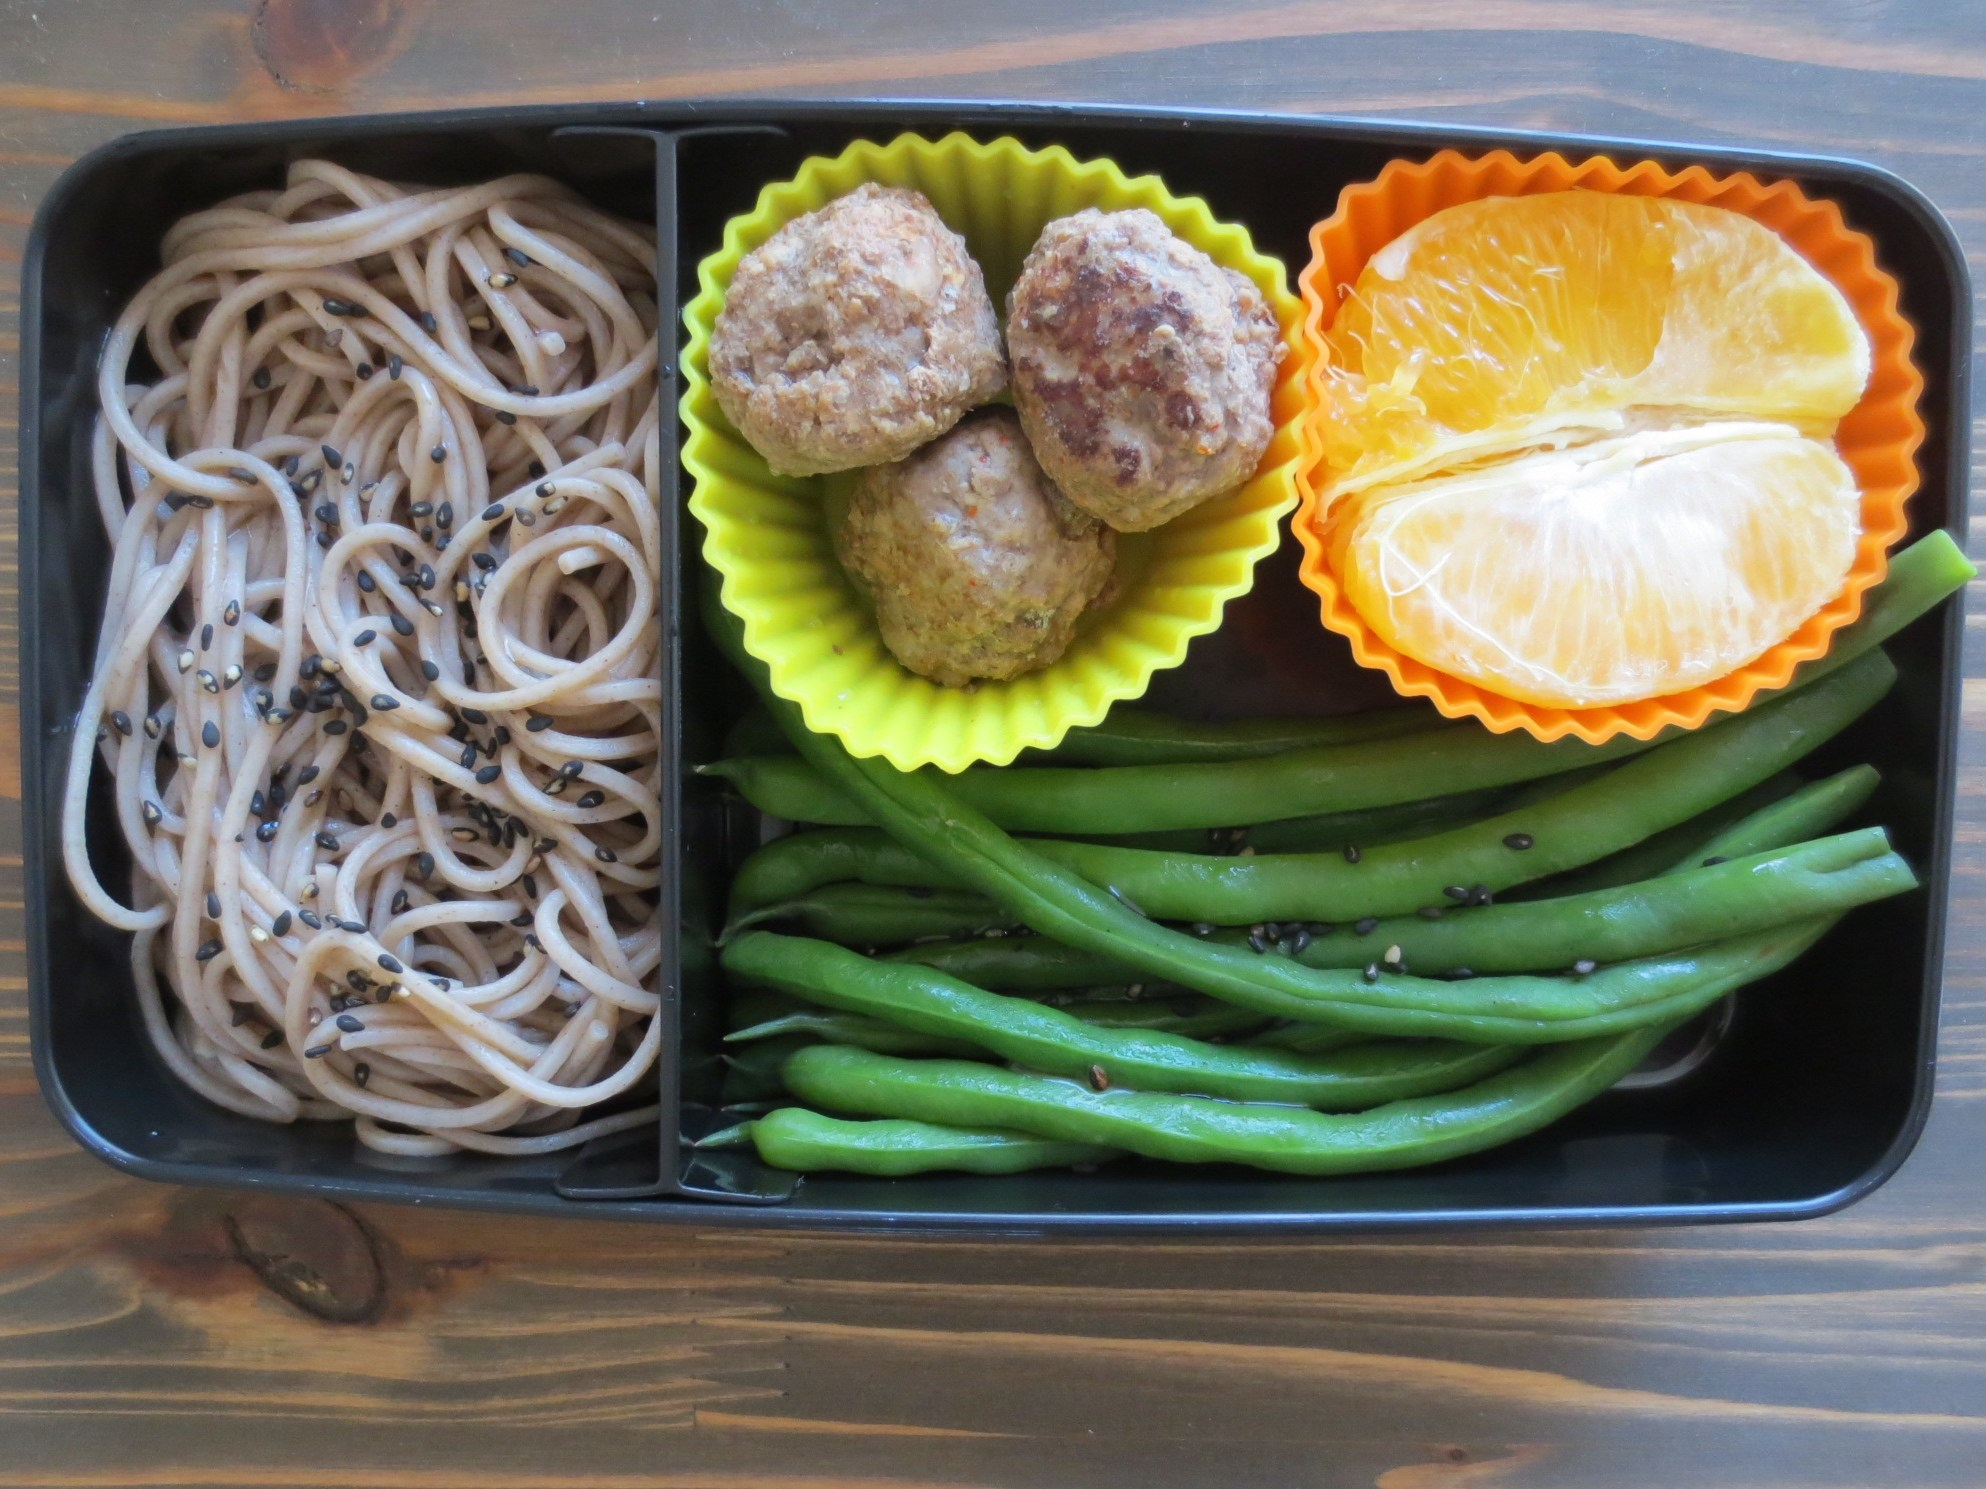Soba: (105, 128, 680, 1173)
